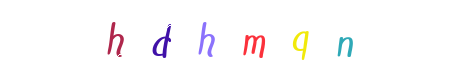D: (149, 0, 229, 80)
H: (122, 0, 202, 80), (159, 0, 239, 80)
M: (195, 0, 275, 80)
N: (305, 0, 385, 80)
Q: (261, 0, 341, 80)
